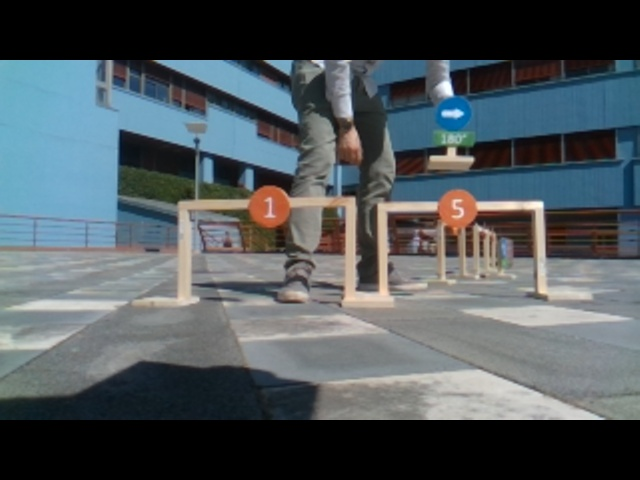180_degree: (435, 130, 475, 145)
arrow_right: (432, 92, 476, 132)
checkpoint_foot: (129, 292, 200, 313), (525, 282, 596, 301), (339, 289, 395, 313)
checkpoint_side: (174, 195, 199, 299), (339, 192, 364, 296), (373, 196, 394, 298), (529, 196, 550, 294), (437, 218, 449, 278), (455, 230, 467, 278)
checkpoint_signal: (176, 192, 363, 216), (373, 198, 552, 215)
five: (434, 186, 478, 226)
one: (248, 185, 291, 231)
